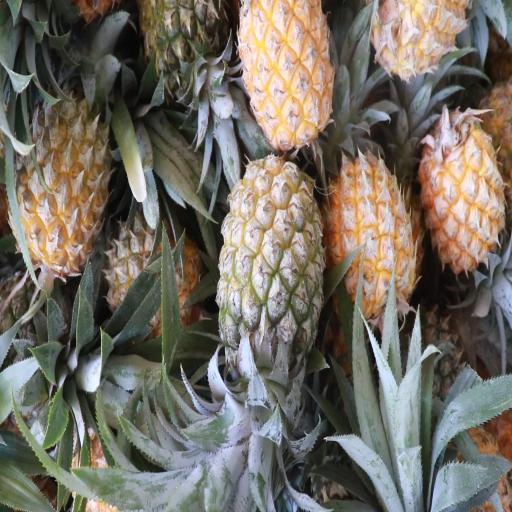------------------------------: (217, 156, 323, 375), (106, 209, 202, 336)
Pineapple - v8 v1: (13, 90, 109, 268), (238, 2, 335, 150), (422, 108, 504, 275), (330, 157, 414, 317)
